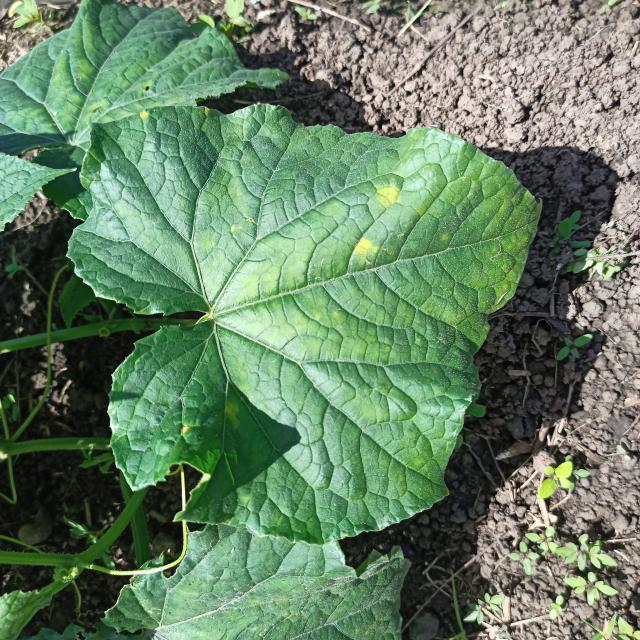disease_cucumber: (375, 184, 400, 209), (354, 237, 376, 261), (138, 110, 149, 120)
